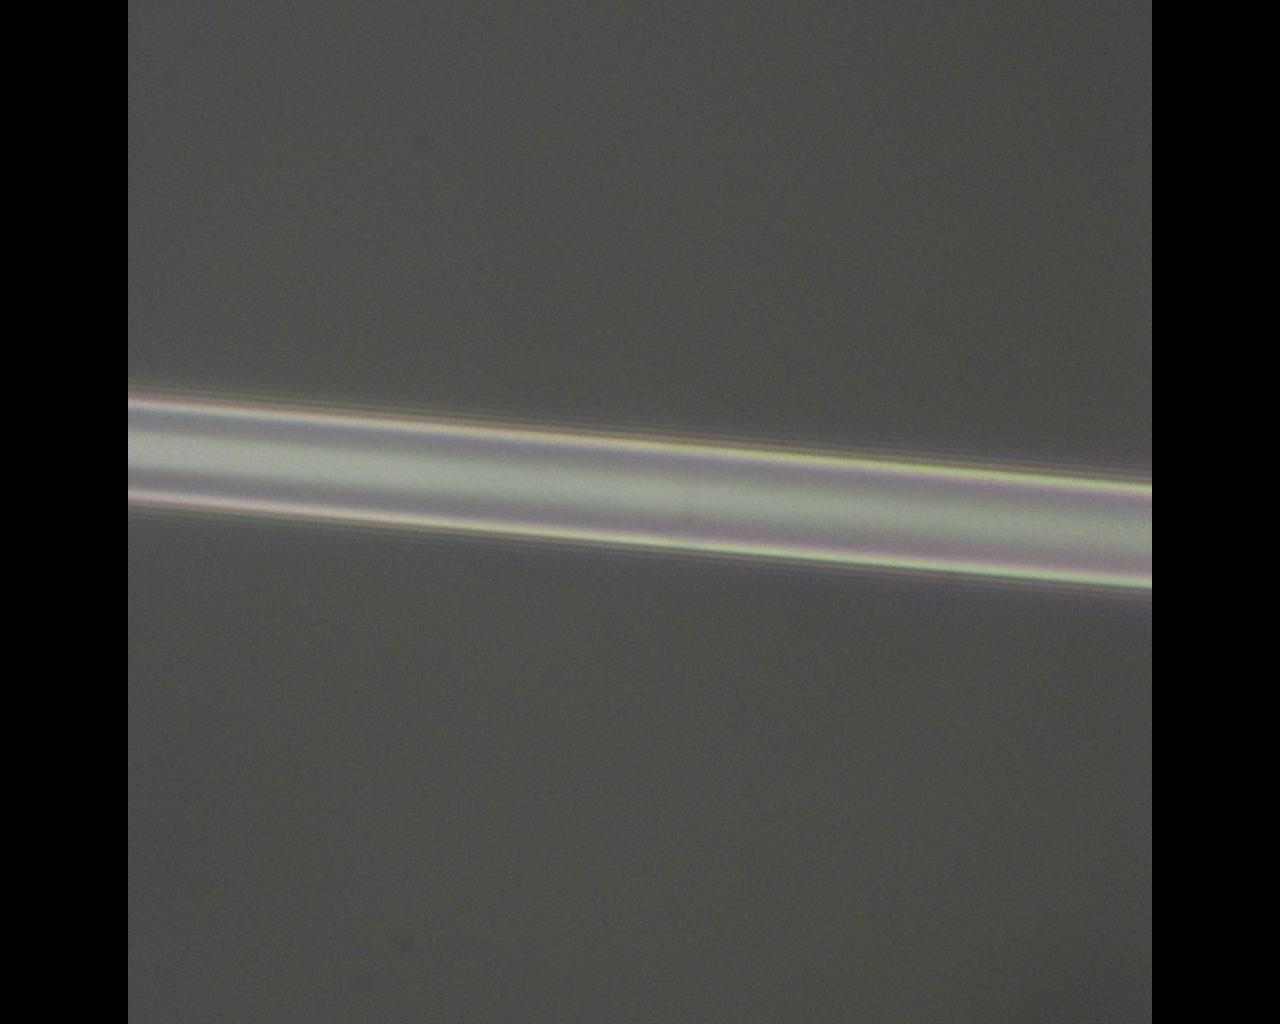fiber: (127, 387, 1151, 589)
